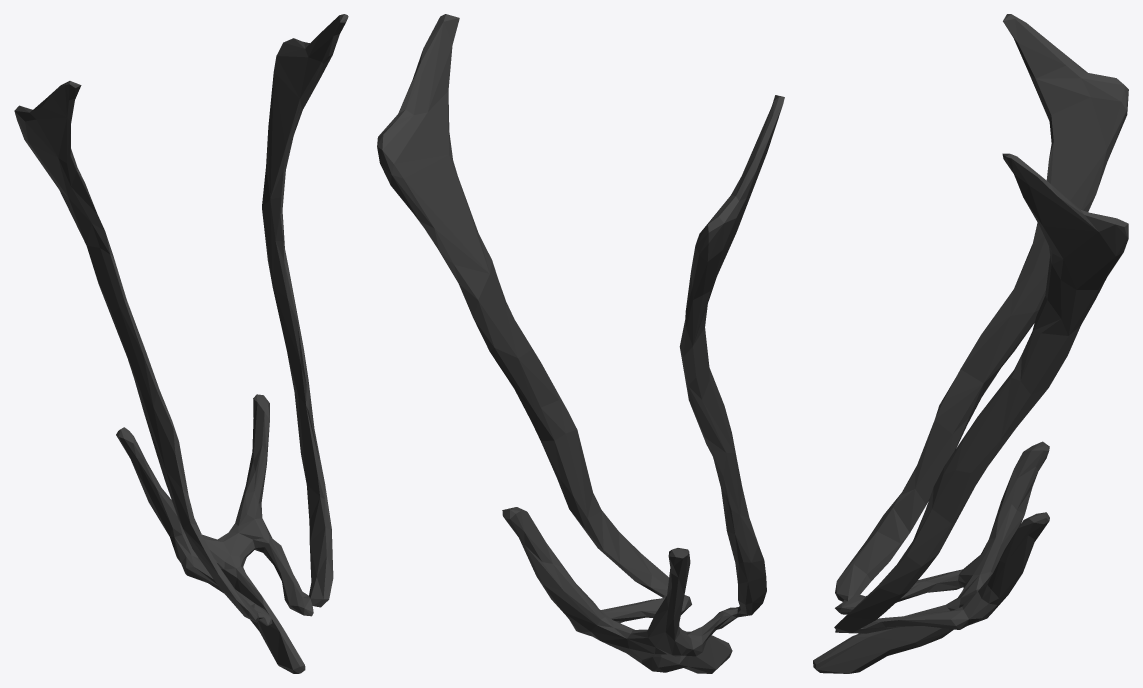
Rendered from skel_hyoid_bone.glb.
3 views of the same model, side by side, from view 1: azimuth 30°, elevation 25°; view 2: azimuth 150°, elevation 25°; view 3: azimuth 270°, elevation 25° (orthographic). The views are drawn at different scales.
Parts seen in each view (by area): view 1: skel_hyoid_bone; view 2: skel_hyoid_bone; view 3: skel_hyoid_bone.
Boxes of the visible parts, <box> form: skel_hyoid_bone: <box>14,14,348,673</box>; skel_hyoid_bone: <box>377,14,784,673</box>; skel_hyoid_bone: <box>813,14,1128,673</box>.
Bounding box in the file's own units: 0.00202 × 0.00382 × 0.00185.
Materials: 1 (1 with a texture image).
